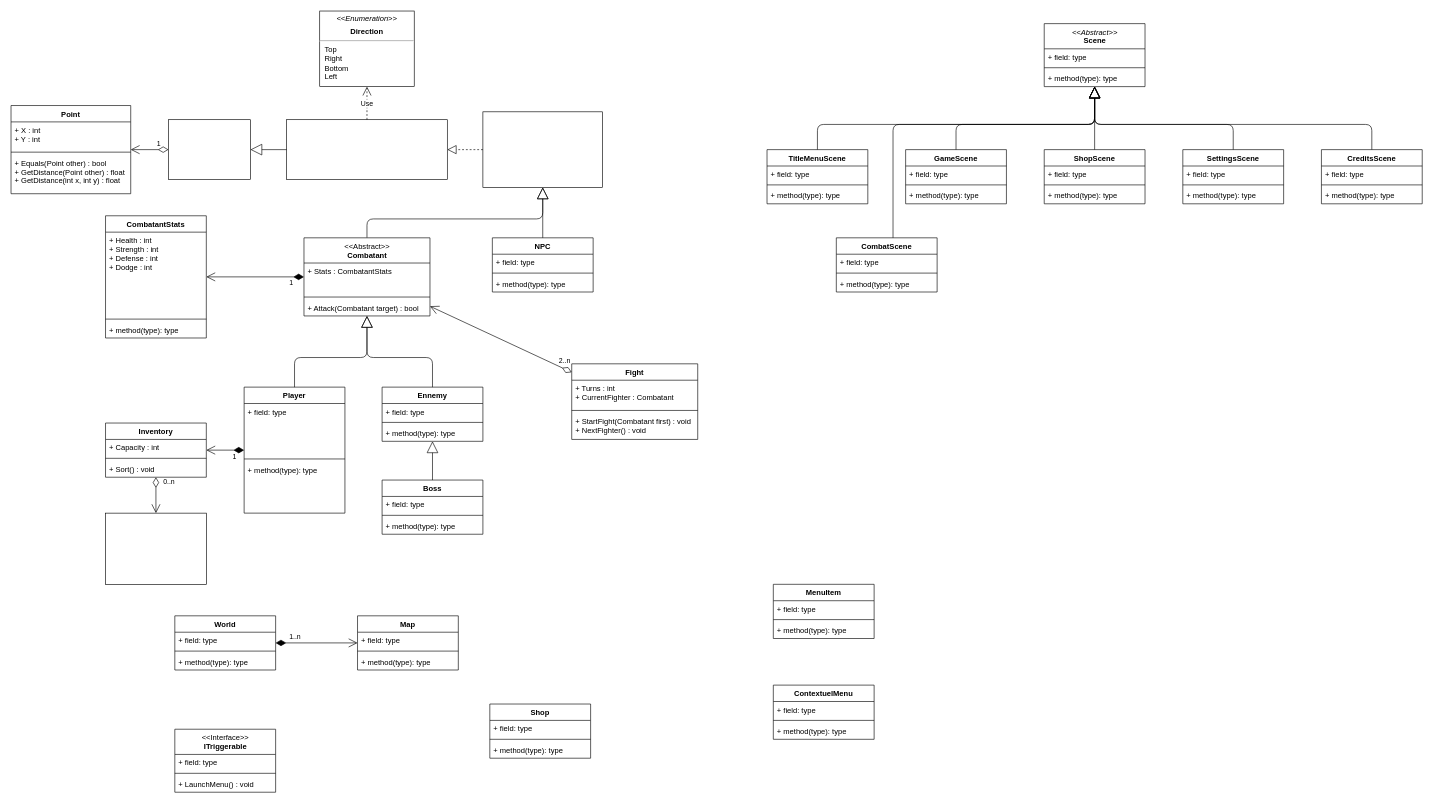
The diagram is 1433 pixels wide and 805 high, and some of its shapes have lost their labels. Here are the shapes that lost their labels. From the top down, the centre of each, then its label:
the point at 209,149: <<Interface>> ILocatable2D
the point at 366,149: <<Interface>> IMovable2D + LookAt : Direction + Move(Direction direction) : bool
the point at 542,149: <<Abstract>> Character + Name : string
the point at 155,548: <<Abstract>> Item
